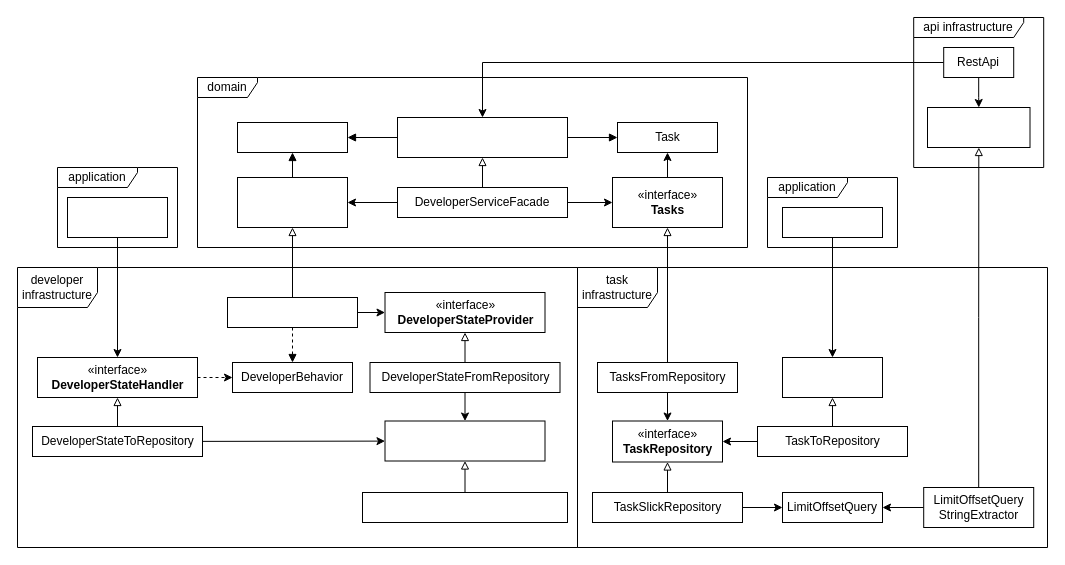
The diagram is 1065 pixels wide and 565 high, and some of its shapes have lost their labels. The centre of each missing label's shape, as x and y in pixels:
DeveloperState: point (292, 137)
DeveloperState Projection: point (117, 217)
DeveloperStateSlickRepository: point (465, 507)
PersistentDeveloper: point (292, 312)
TaskProjection: point (832, 222)
«interface» Developer: point (292, 202)
«interface» DeveloperService: point (482, 137)
«interface» DeveloperStateRepository: point (464, 440)
«interface» QueryExtractor: point (978, 127)
«interface» TaskHandler: point (832, 377)
